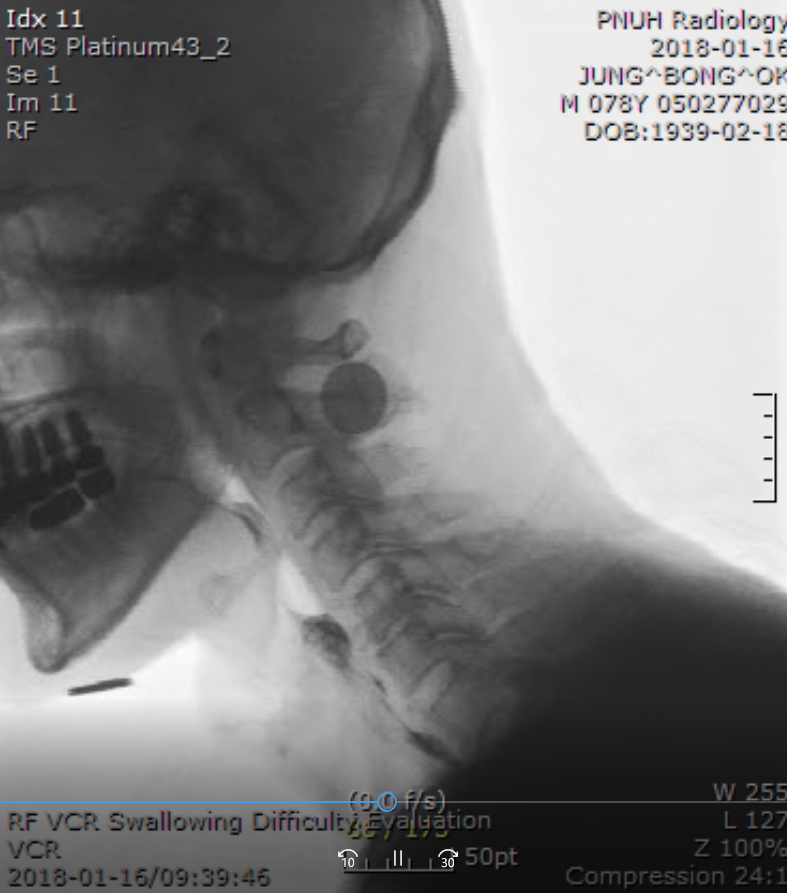dros: (280, 570, 331, 633)
food: (287, 607, 353, 674)
uros: (218, 505, 267, 549)
